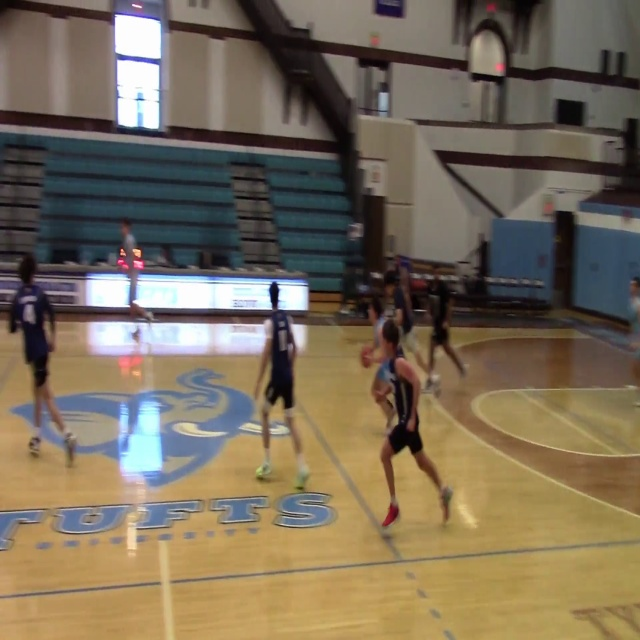Basketball: (361, 345, 373, 368), (130, 302, 143, 316), (132, 248, 142, 258)
